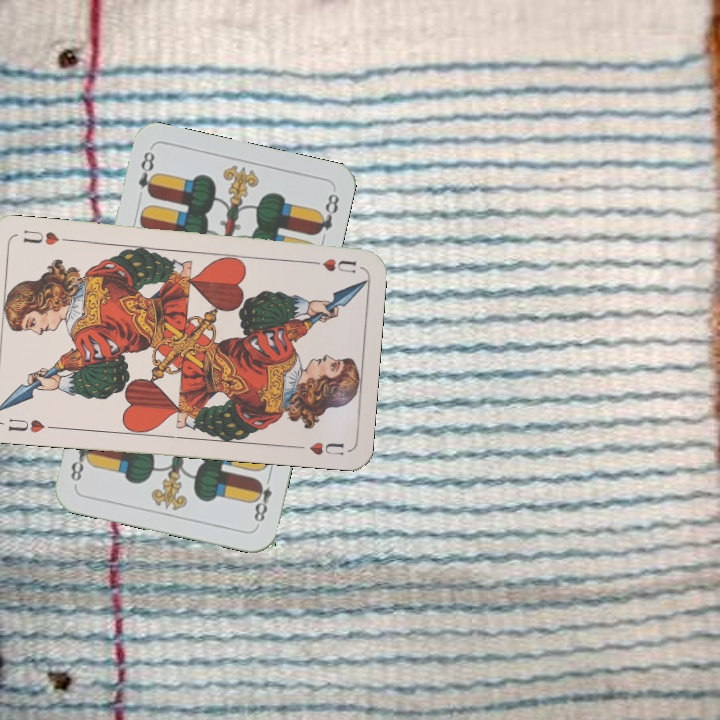E8: (248, 470, 274, 525), (134, 147, 160, 199)
HU: (302, 254, 359, 276), (4, 414, 58, 435)
